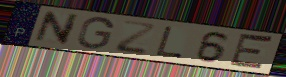6: (195, 31, 232, 64)
E: (227, 31, 276, 72)
G: (75, 16, 116, 51)
L: (154, 25, 185, 60)
N: (32, 10, 82, 47)
Z: (112, 19, 159, 56)
